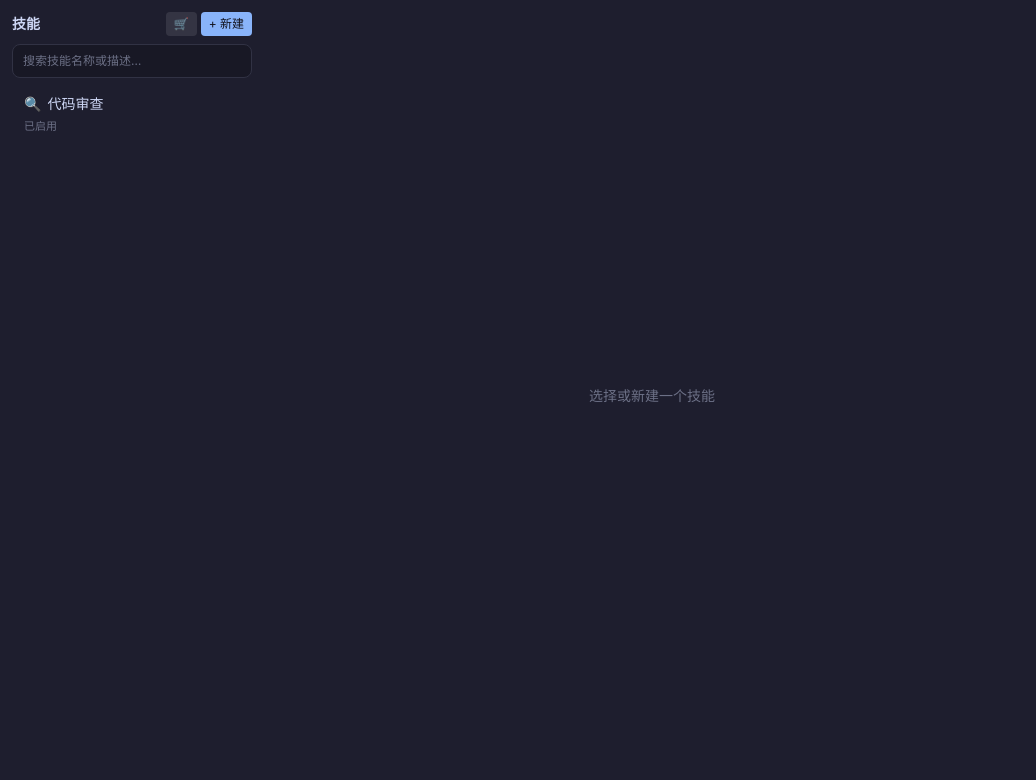
描述质量上屏 › 描述过短与缺 when-to-use 都给出建议，但不阻断详情展示
Click the text "代码审查" at (76, 104), box [48,94,104,114]
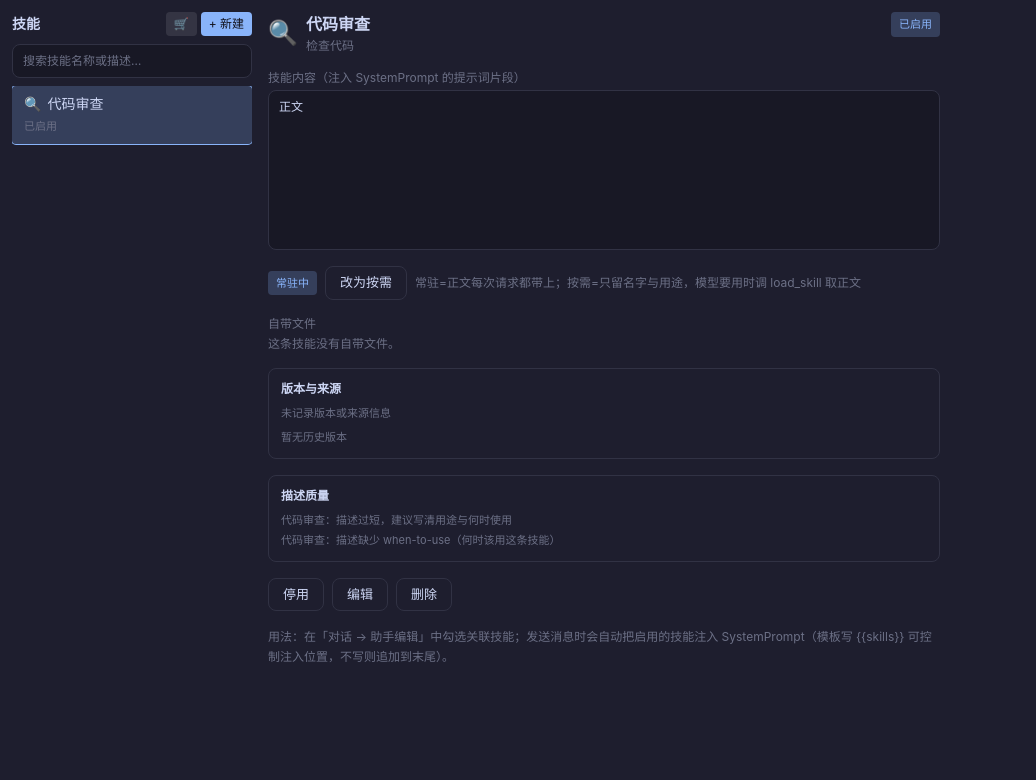
Expected: the element with test id "skill-quality-panel" is shown, [268,474,940,562]
Expected: the text "描述质量" is shown, [281,488,329,502]
